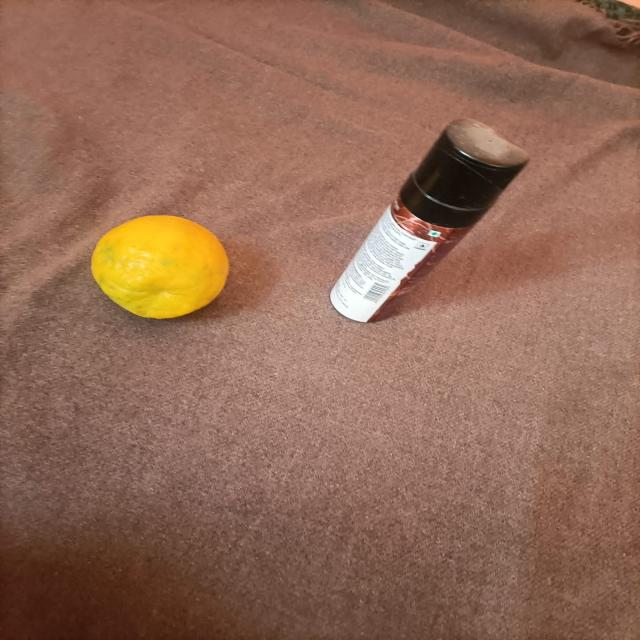orange: (64, 211, 255, 336)
spray: (296, 84, 574, 352)
